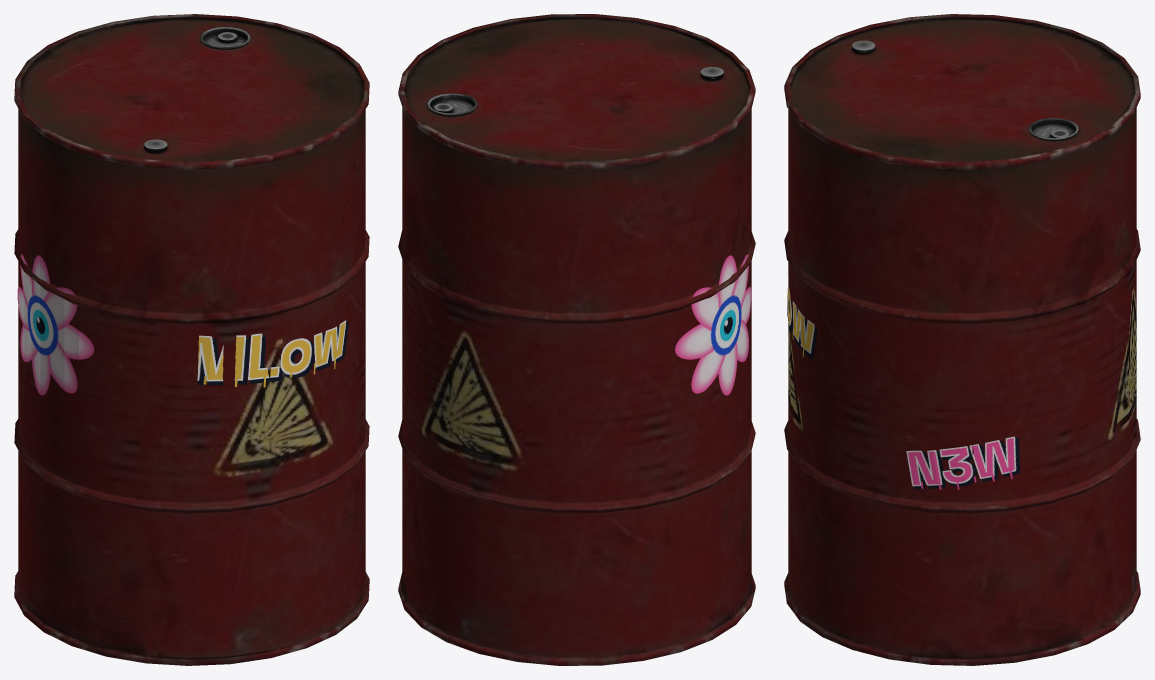
The model's file is nyb_wild_barrel.glb.
3 renders of one model, left to right at view 1: azimuth 30°, elevation 25°; view 2: azimuth 150°, elevation 25°; view 3: azimuth 270°, elevation 25°, orthographic.
Parts seen in each view (by area): view 1: Barrel_01, stk_eyeflower.png, stk_tag_mlow_gold.png; view 2: Barrel_01, stk_eyeflower.png; view 3: Barrel_01, stk_tag_n3w.png, stk_tag_mlow_gold.png.
Part boxes in pixels (left/top/right/bottom): Barrel_01: left=14, top=14, right=369, bottom=665; stk_eyeflower.png: left=17, top=254, right=94, bottom=395; stk_tag_mlow_gold.png: left=197, top=320, right=348, bottom=387; Barrel_01: left=398, top=14, right=755, bottom=665; stk_eyeflower.png: left=675, top=254, right=751, bottom=395; Barrel_01: left=784, top=14, right=1140, bottom=665; stk_tag_n3w.png: left=906, top=436, right=1019, bottom=489; stk_tag_mlow_gold.png: left=787, top=286, right=816, bottom=359.
Bounding box in the file's own units: 0.563 × 0.88 × 0.563.
Materials: 4 (4 with a texture image).
